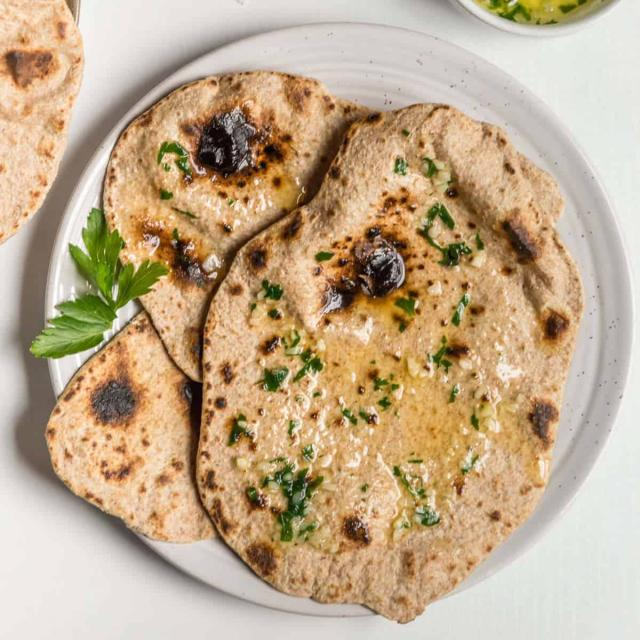chapathi: (192, 101, 589, 626), (102, 61, 360, 370), (36, 302, 217, 568)
